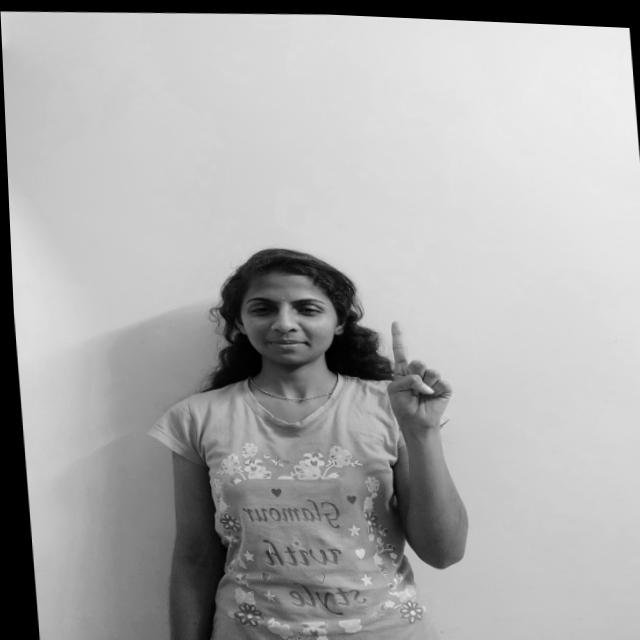Question: (369, 310, 459, 448)
